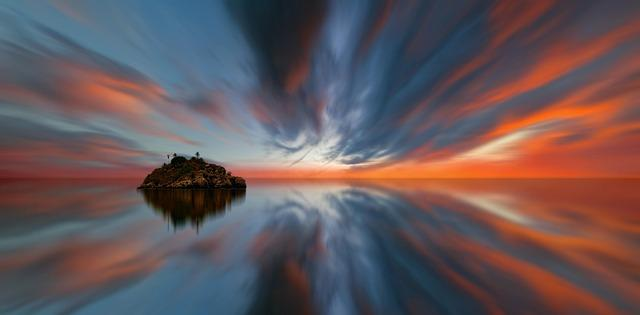Non_Gorille: (73, 76, 430, 249)
